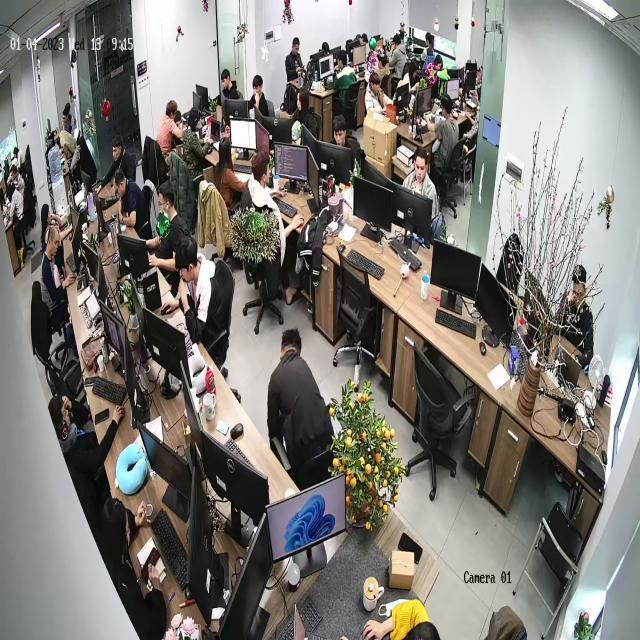person: (267, 326, 334, 489), (96, 498, 169, 640), (245, 149, 305, 305), (160, 239, 239, 348), (44, 393, 126, 480), (552, 262, 596, 368), (142, 182, 189, 272), (41, 223, 75, 331), (360, 596, 440, 640), (399, 144, 436, 221), (424, 91, 460, 169), (95, 133, 138, 193), (112, 167, 150, 233), (216, 138, 249, 214), (181, 107, 213, 181), (156, 98, 185, 166), (328, 113, 363, 168), (7, 164, 26, 264), (287, 88, 319, 144), (365, 66, 394, 122), (38, 200, 73, 245), (332, 48, 359, 106), (248, 75, 277, 126), (388, 33, 411, 82), (283, 36, 307, 82), (402, 57, 421, 96), (220, 68, 239, 103), (420, 30, 437, 62)
